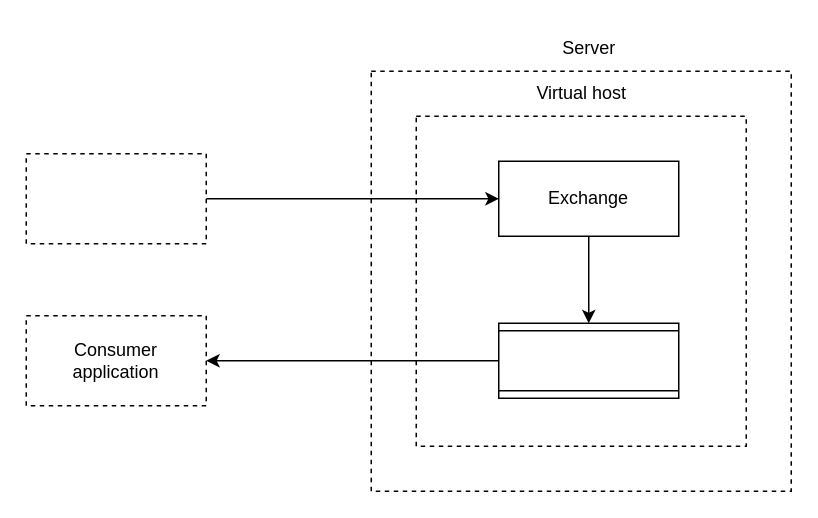
Some shapes in this 818 by 518 pixel diagram are drawn without their labels. The shapes that lost their labels are listed below. From the top down, each one's box as (x1, y1, x2, y2) in pixels, then its label:
(25, 152, 206, 244): Publisher application
(497, 322, 679, 398): Message Queue
